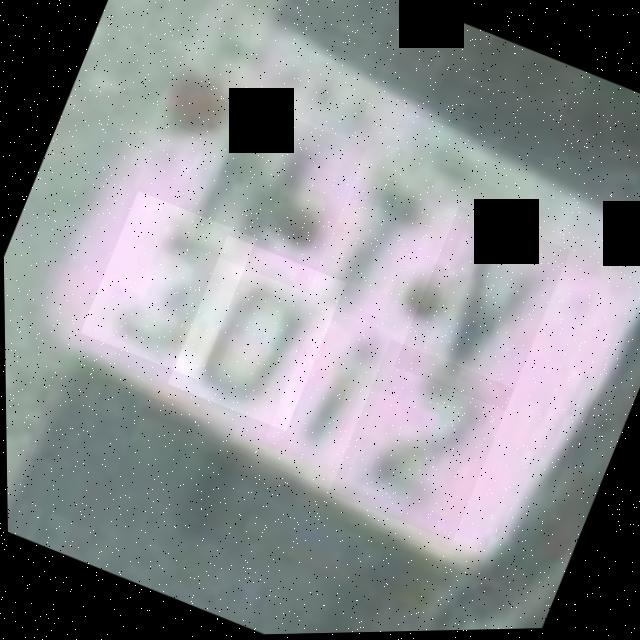0: (164, 234, 347, 434)
1: (261, 303, 406, 477)
2: (325, 339, 514, 546)
5: (77, 189, 256, 383)
N: (187, 100, 367, 296)
T: (302, 168, 457, 333)
Y: (391, 206, 571, 415)
